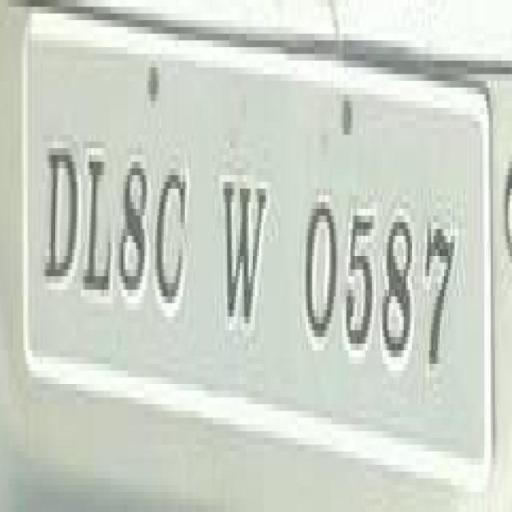number plate: (10, 47, 512, 438)
